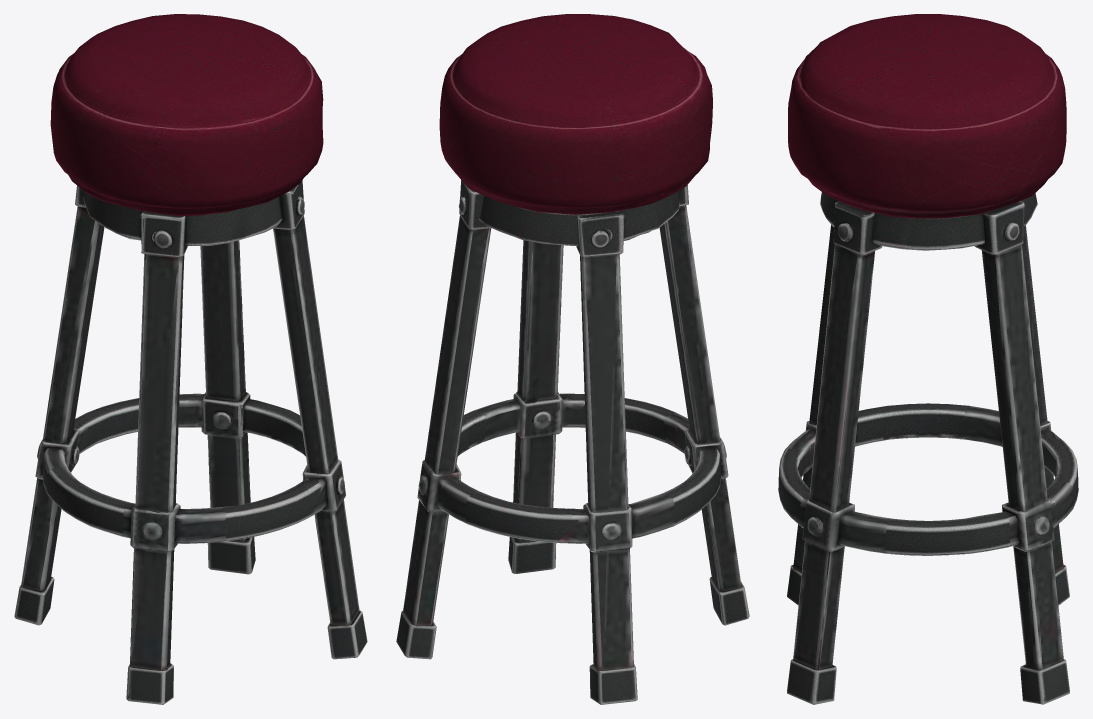
The model's file is stool_opt.glb.
3 renders of one model, left to right at view 1: azimuth 30°, elevation 25°; view 2: azimuth 150°, elevation 25°; view 3: azimuth 270°, elevation 25°, orthographic. The views are drawn at different scales.
Size of the model in its own units: 0.4341 by 0.9517 by 0.4341.
Materials: 1 (1 with a texture image).
